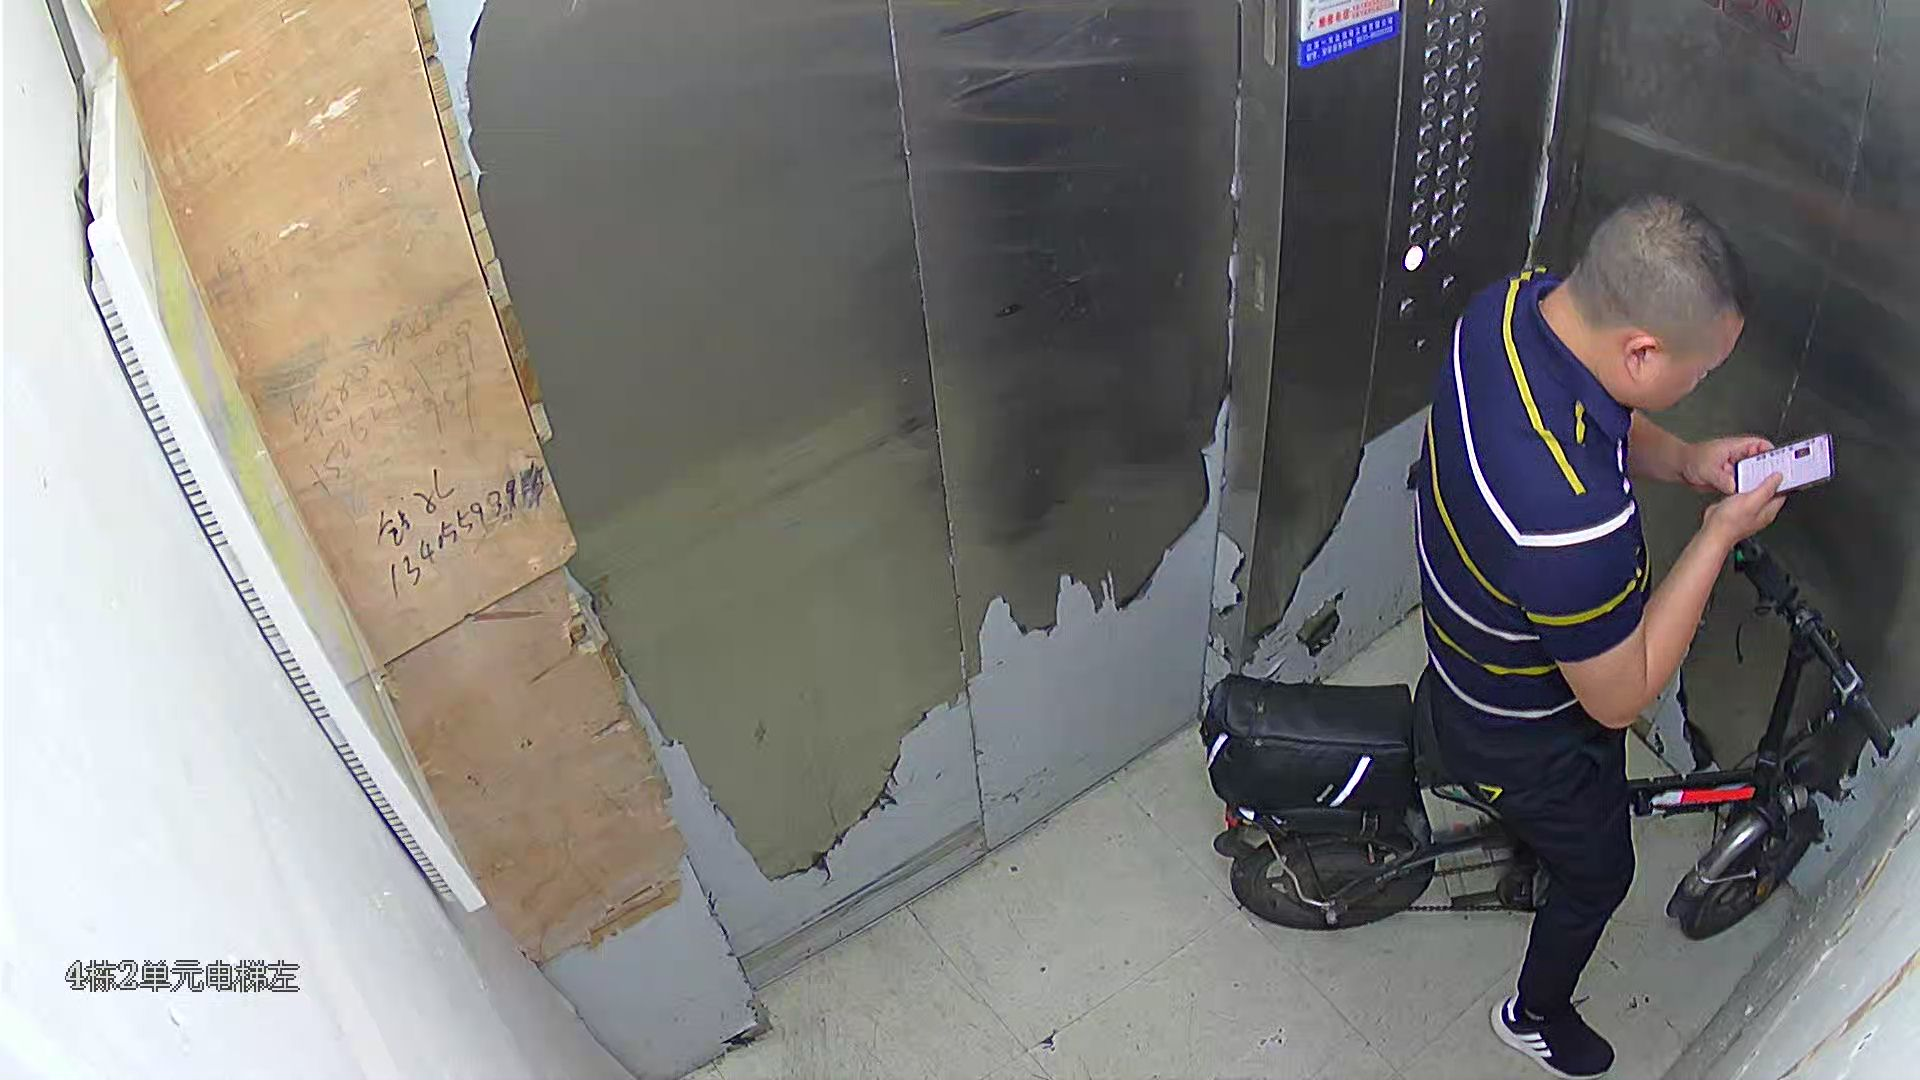Electric-bicycle: (1197, 527, 1916, 942)
